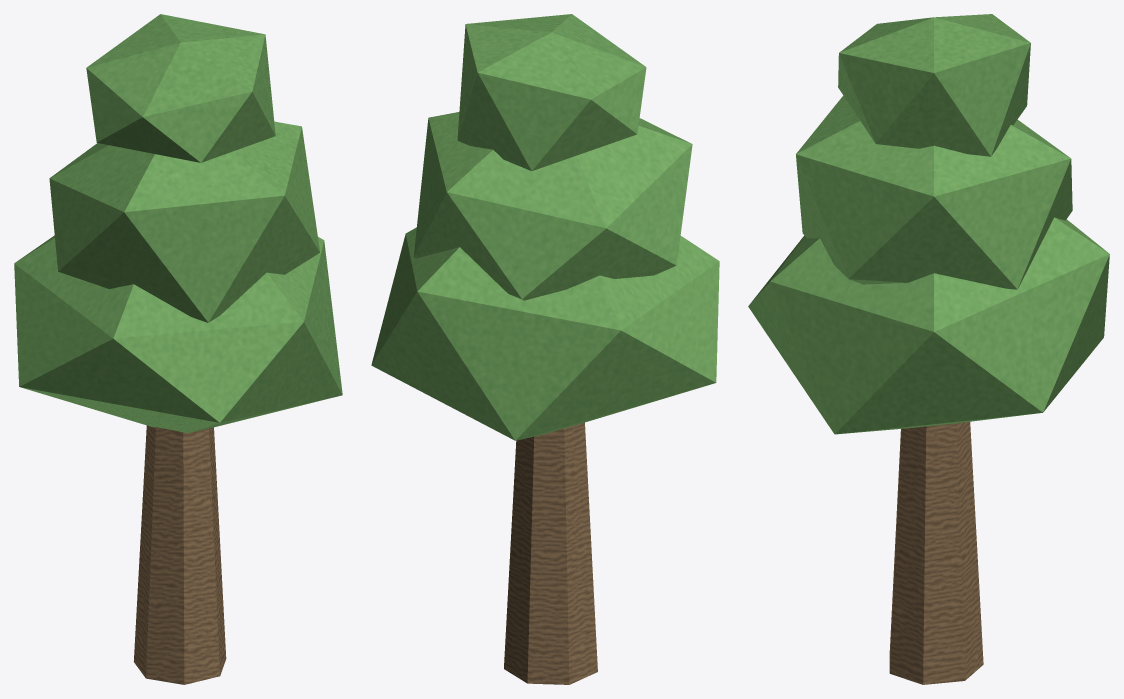
The model's file is tree.glb.
The picture shows the model from 3 angles, left to right: view 1: azimuth 30°, elevation 25°; view 2: azimuth 150°, elevation 25°; view 3: azimuth 270°, elevation 25°; orthographic projection. The views are drawn at different scales.
Parts seen in each view (by area): view 1: tree_1; view 2: tree_1; view 3: tree_1.
Part boxes in pixels (bbox=[...]): tree_1: bbox=[14, 14, 342, 684]; tree_1: bbox=[371, 14, 719, 684]; tree_1: bbox=[748, 14, 1109, 684].
Bounding box in the file's own units: 11.85 × 23.1 × 11.7.
1 material, 1 textured.
